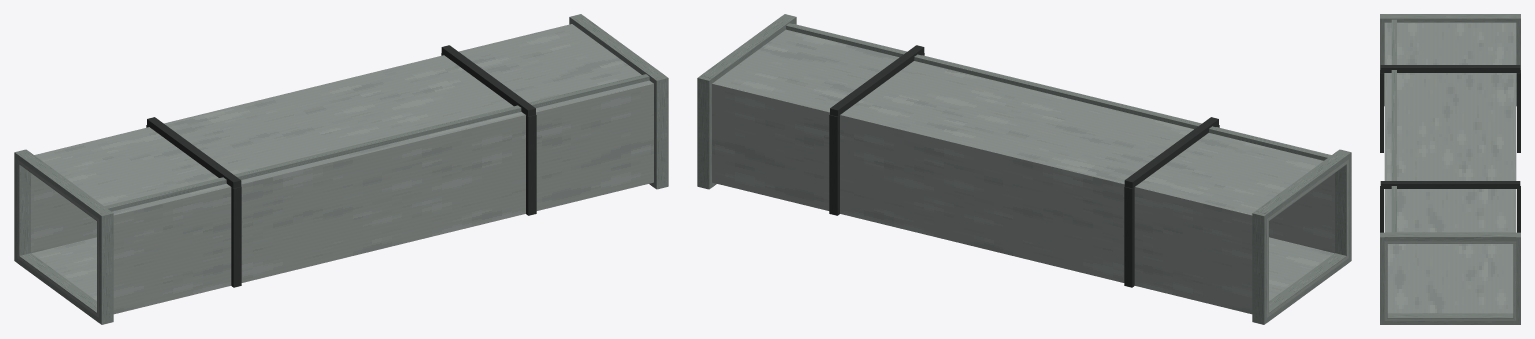
Rendered from hvac_duct_straight.glb.
The picture shows the model from 3 angles, left to right: view 1: azimuth 30°, elevation 25°; view 2: azimuth 150°, elevation 25°; view 3: azimuth 270°, elevation 25°; orthographic projection. The views are drawn at different scales.
Parts seen in each view (by area): view 1: hvac_duct_straight; view 2: hvac_duct_straight; view 3: hvac_duct_straight.
Part boxes in pixels (x1=…): hvac_duct_straight: x1=14, y1=14, x2=668, y2=324; hvac_duct_straight: x1=697, y1=14, x2=1351, y2=324; hvac_duct_straight: x1=1380, y1=14, x2=1520, y2=324.
Size of the model in its own units: 2.4 by 0.446 by 0.641.
Materials: 3 (3 with a texture image).
